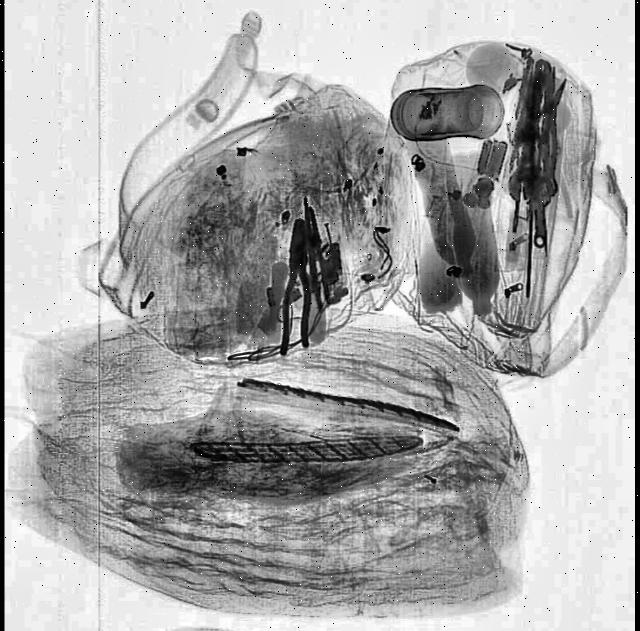Pliers: (278, 216, 313, 354)
Wrench: (504, 58, 560, 203)
